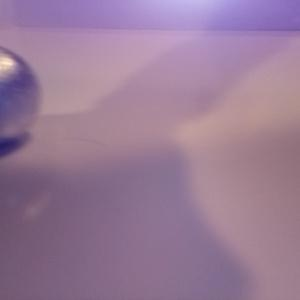alive_ball: (1, 47, 40, 149)
